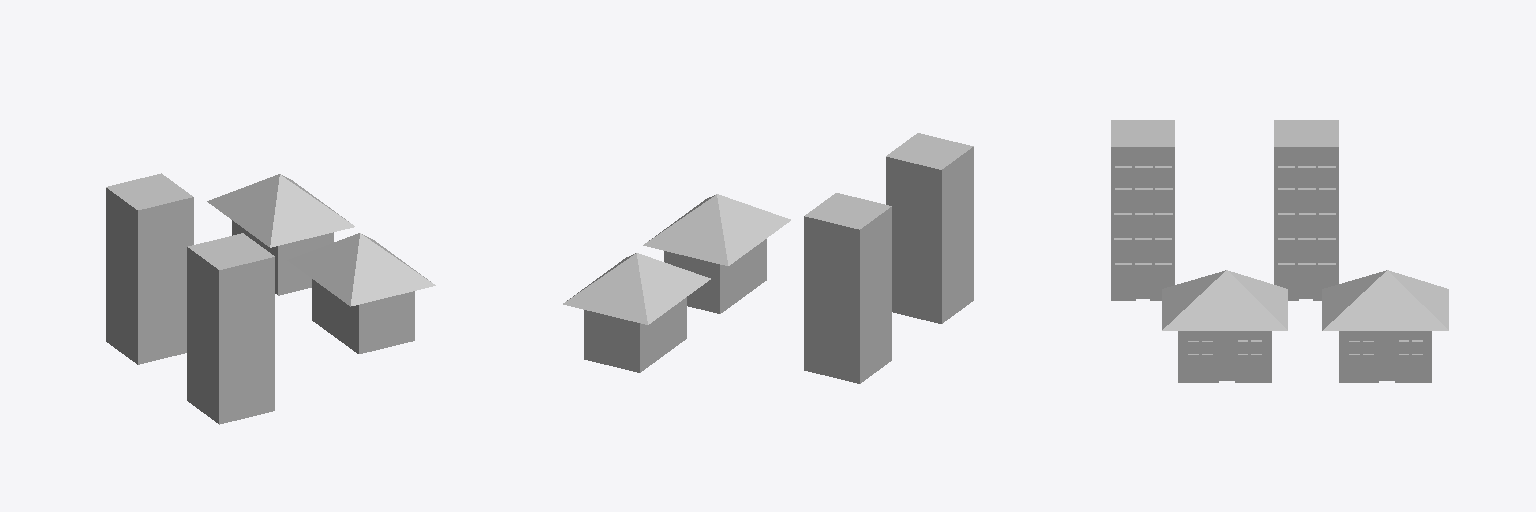
The model's file is village_part.obj.
The picture shows the model from 3 angles: view 1: azimuth 30°, elevation 25°; view 2: azimuth 150°, elevation 25°; view 3: azimuth 270°, elevation 25°; orthographic projection.
Visible parts, largest first — view 1: Cube.003_Cube.004, Cube.001, Cube, Cube.002; view 2: Cube.001, Cube.003_Cube.004, Cube.002, Cube; view 3: Cube.003_Cube.004, Cube, Cube.002, Cube.001.
Part boxes in pixels (left/top/right/bottom): Cube.003_Cube.004: left=187, top=233, right=274, bottom=424; Cube.001: left=106, top=173, right=193, bottom=364; Cube: left=287, top=233, right=435, bottom=353; Cube.002: left=207, top=174, right=354, bottom=295; Cube.001: left=804, top=193, right=891, bottom=383; Cube.003_Cube.004: left=886, top=133, right=973, bottom=323; Cube.002: left=563, top=253, right=710, bottom=372; Cube: left=643, top=194, right=790, bottom=313; Cube.003_Cube.004: left=1111, top=120, right=1174, bottom=300; Cube: left=1162, top=270, right=1287, bottom=382; Cube.002: left=1322, top=270, right=1448, bottom=382; Cube.001: left=1274, top=120, right=1338, bottom=300.
Bounding box in the file's own units: 8.67 × 5.27 × 10.49.